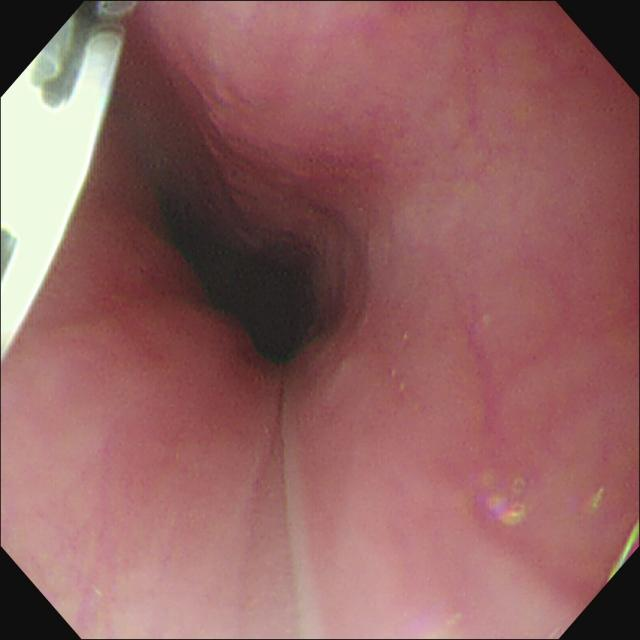E: (143, 135, 382, 396)
K: (2, 2, 141, 372)
